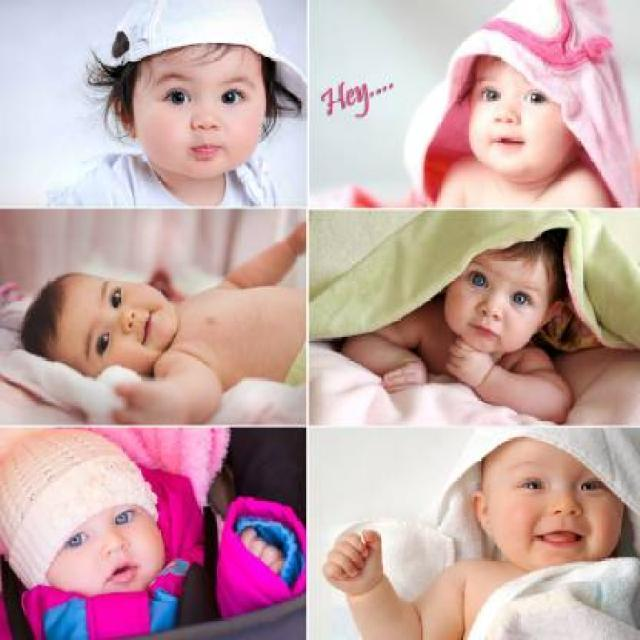non-dog: (322, 435, 638, 640), (0, 428, 297, 640), (352, 0, 640, 208), (20, 218, 308, 424), (30, 1, 307, 209), (342, 228, 576, 424)
